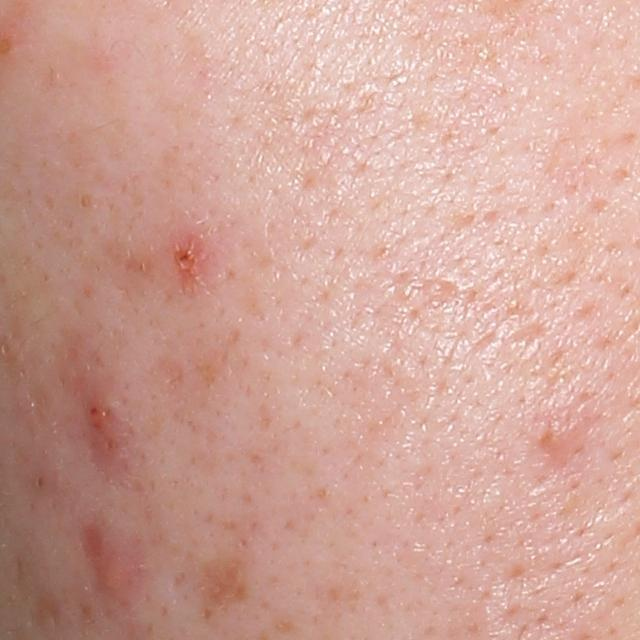comedo: (71, 190, 97, 214), (34, 475, 46, 491)
papule: (160, 227, 221, 297), (79, 393, 125, 449)
